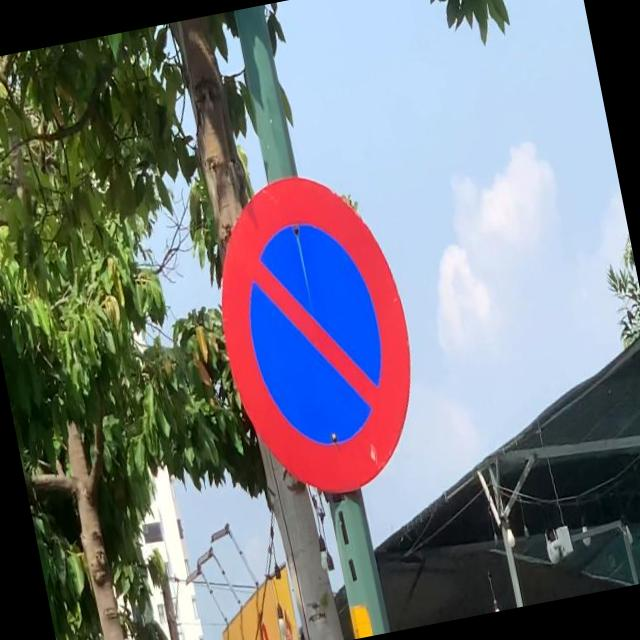P-131a: (196, 158, 434, 510)
